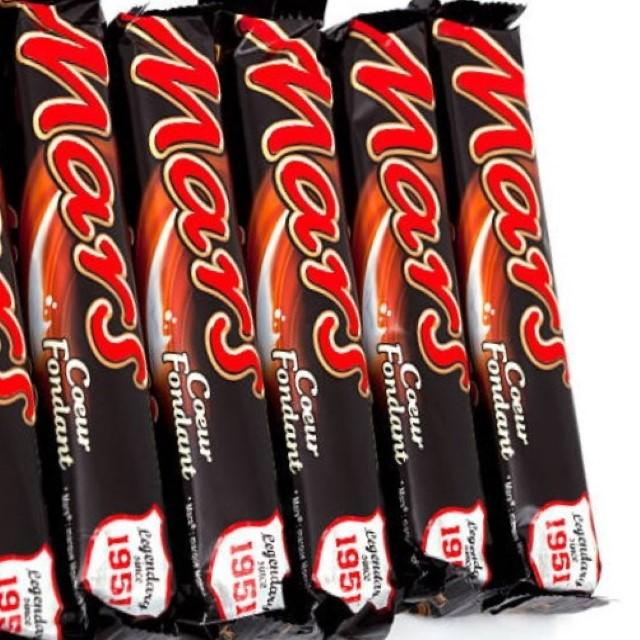mars_chocolate: (104, 0, 311, 596), (333, 7, 522, 560), (433, 10, 605, 557), (258, 21, 415, 612), (13, 19, 168, 574)
